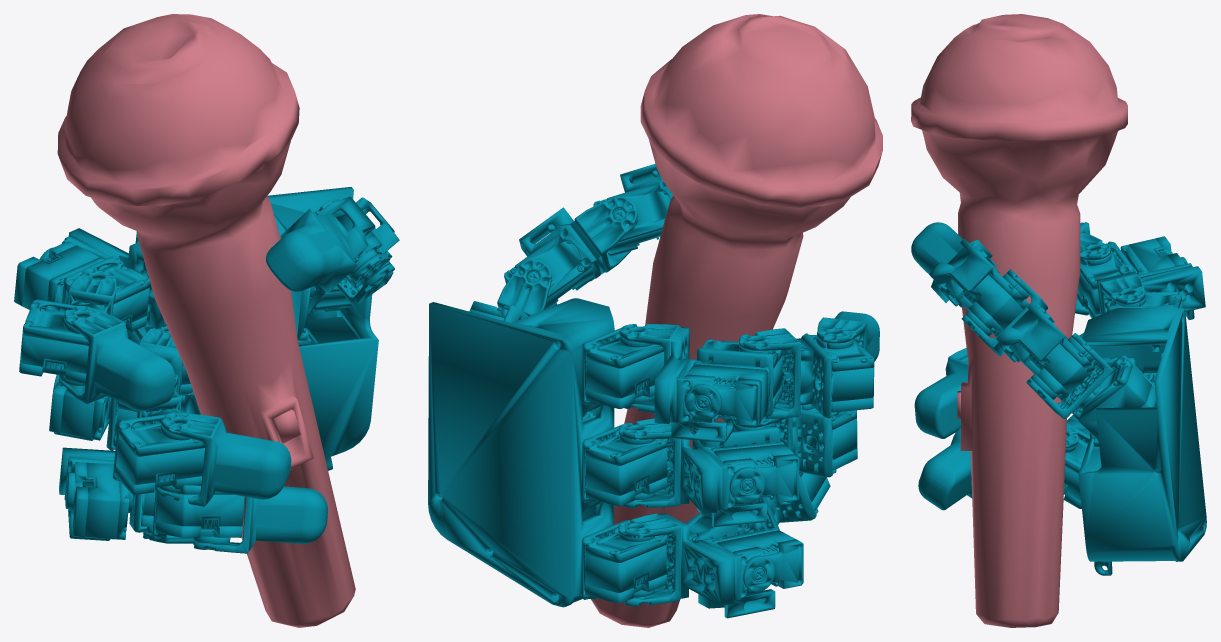
The picture shows the model from 3 angles, left to right: view 1: azimuth 30°, elevation 25°; view 2: azimuth 150°, elevation 25°; view 3: azimuth 270°, elevation 25°; orthographic projection. The views are drawn at different scales.
Visible parts, largest first — view 1: world; view 2: world; view 3: world.
Part boxes in pixels (box(x1,y1,x2,y2)): world: box(14, 14, 399, 627); world: box(428, 14, 882, 627); world: box(911, 14, 1206, 627).
Size of the model in its own units: 0.1959 by 0.3 by 0.1463.
